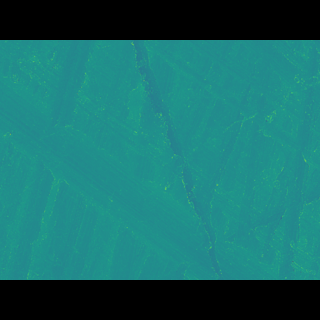Loch: (0, 97, 282, 249), (122, 68, 227, 250), (146, 70, 319, 167), (276, 70, 319, 250)
